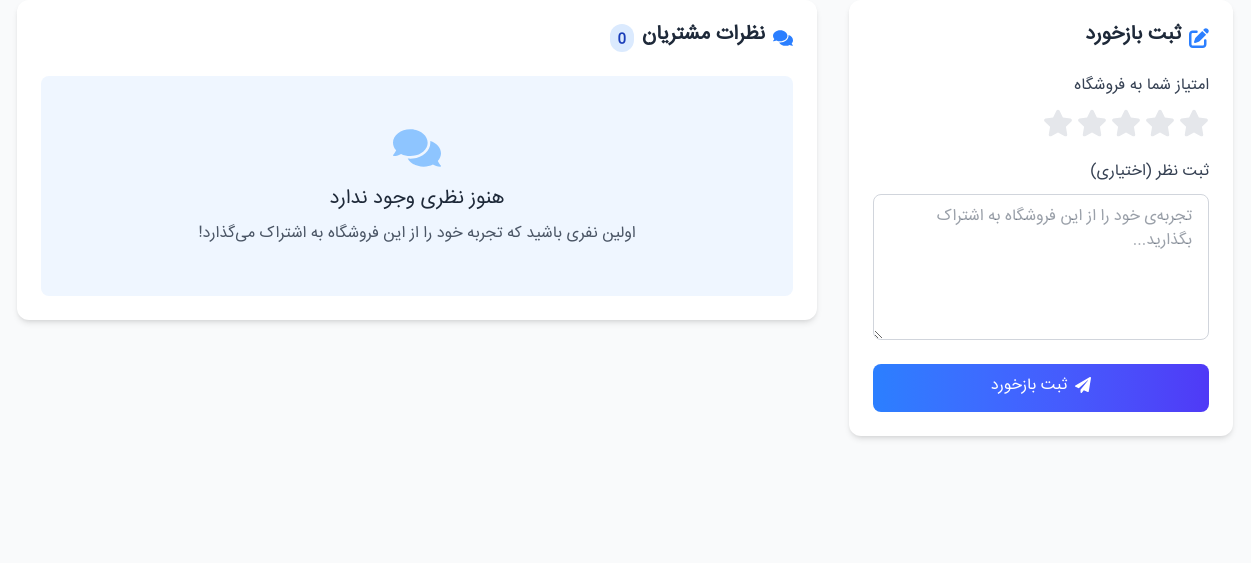
Test case: StoreComment and StoreFullComment › submits both rating and comment and shows success message
Click the 2nd button at (1092,123), box x1=1077 y1=108 x2=1107 y2=138
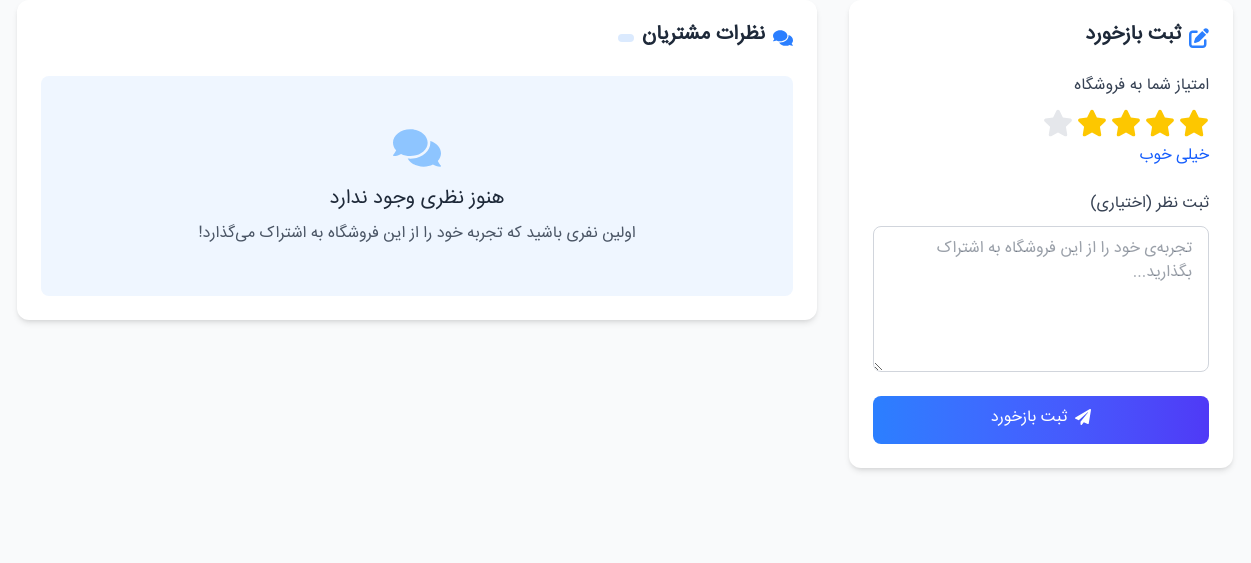
Type "فروشگاه خوبی بود" into the text box at (1041,299), box x1=873 y1=226 x2=1209 y2=372
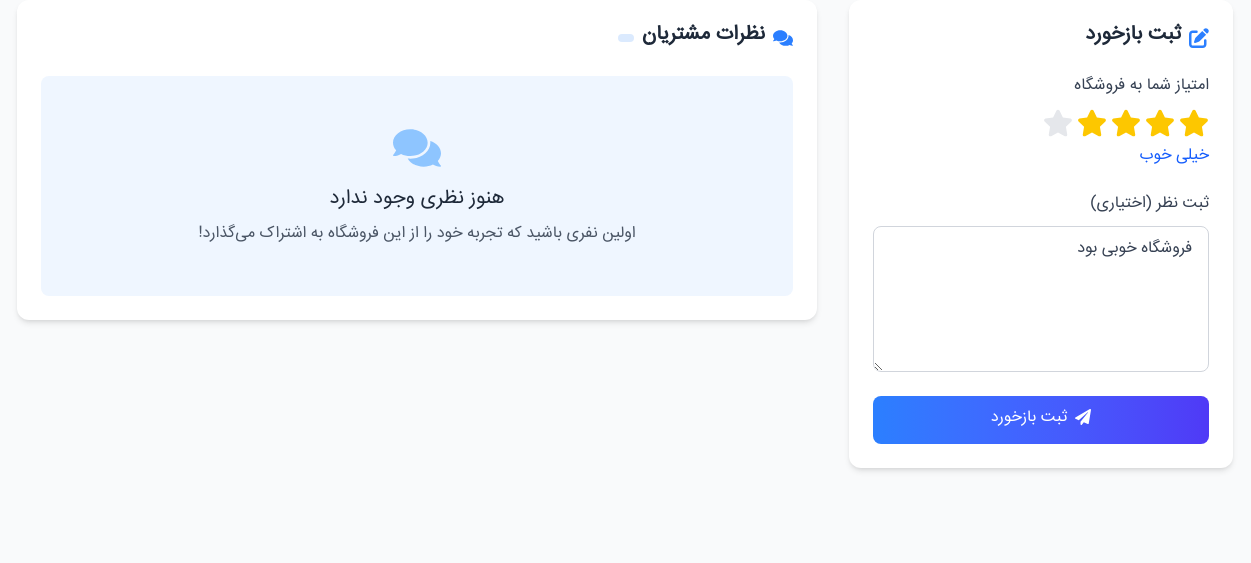
Click the button "ثبت بازخورد" at (1041,420), box x1=873 y1=396 x2=1209 y2=444
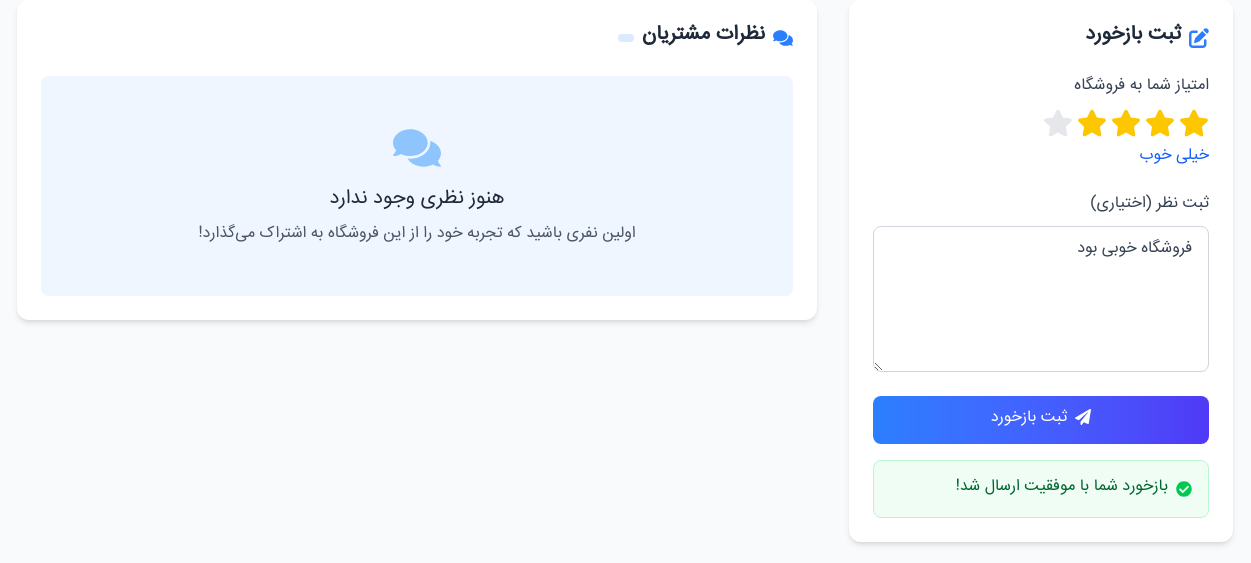
Expected: the text "بازخورد شما با موفقیت ارسال شد!" is shown, x1=956 y1=477 x2=1168 y2=501
